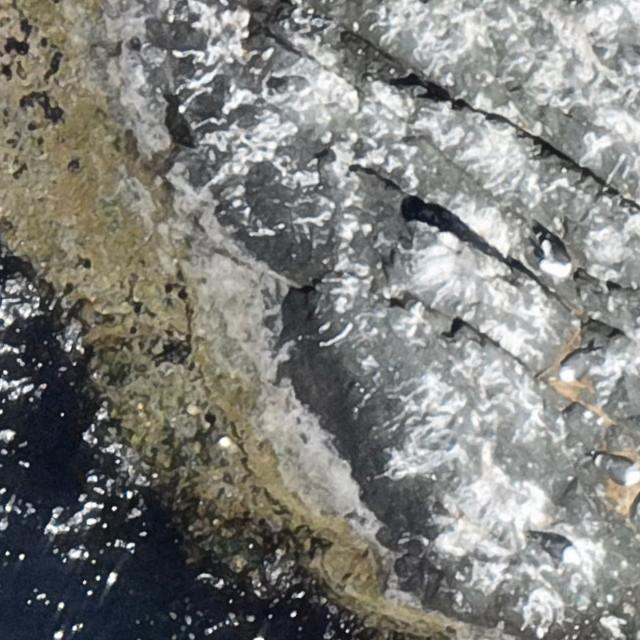umineko: (538, 231, 574, 279), (540, 537, 580, 564), (600, 459, 640, 485), (562, 352, 592, 380)
